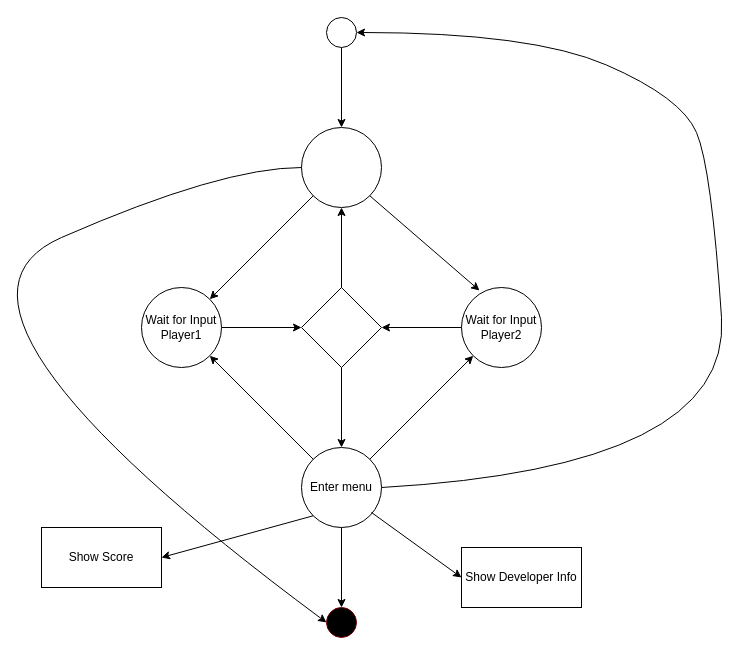
The diagram is 740 pixels wide and 655 high, and some of its shapes have lost their labels. Each missing label, with the centre of its shape:
Draw Playground: pixel 341 167
Input: pixel 341 327
